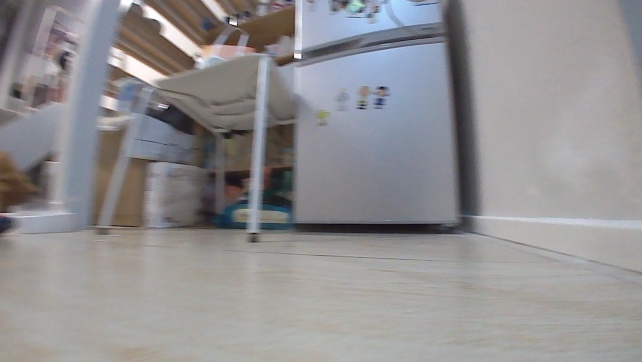refrigerator: (285, 0, 468, 237)
